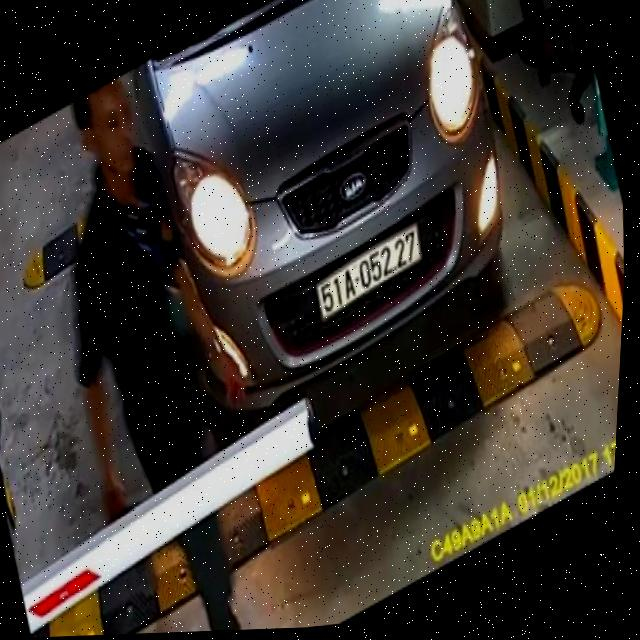car: (109, 0, 537, 424)
plate: (309, 224, 429, 322)
